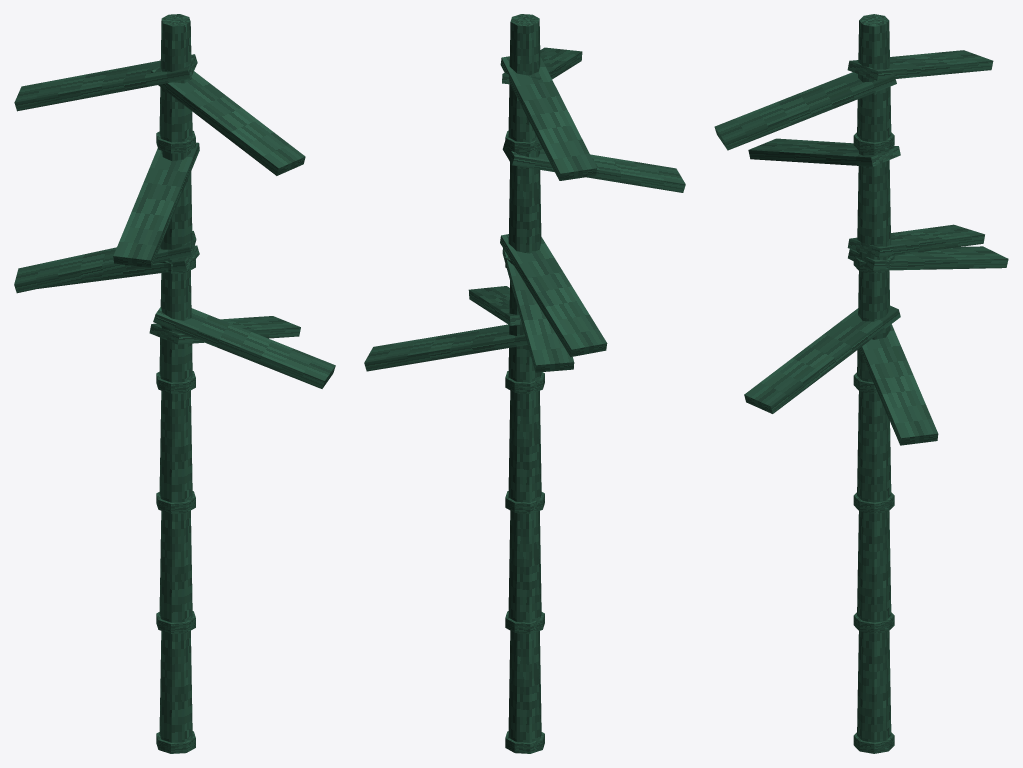
Rendered from bamboo_15.glb.
The picture shows the model from 3 angles, left to right: view 1: azimuth 30°, elevation 25°; view 2: azimuth 150°, elevation 25°; view 3: azimuth 270°, elevation 25°; orthographic projection.
Parts seen in each view (by area): view 1: Leaf.006, Leaf.005, Leaf.003, Leaf.001, Stem.002, Stem, Stem.001, Leaf.004, Stem.005, Stem.003, Leaf.002, Stem.004 (+1 smaller); view 2: Leaf.004, Leaf.001, Leaf.002, Stem.001, Stem, Stem.002, Leaf, Leaf.005, Stem.004, Stem.005, Stem.003, Leaf.003 (+1 smaller); view 3: Leaf.003, Leaf.006, Leaf.002, Stem.001, Stem, Stem.002, Stem.005, Stem.004, Leaf.005, Leaf.001, Leaf, Leaf.004 (+5 smaller).
Boxes of the visible parts, <box> form: Leaf.006: <box>151,67,305,175</box>; Leaf.005: <box>113,142,199,267</box>; Leaf.003: <box>153,307,335,388</box>; Leaf.001: <box>14,54,197,111</box>; Stem.002: <box>159,390,192,502</box>; Stem: <box>159,630,192,742</box>; Stem.001: <box>159,510,192,622</box>; Leaf.004: <box>14,231,196,293</box>; Stem.005: <box>159,14,192,142</box>; Stem.003: <box>159,270,192,382</box>; Leaf.002: <box>149,316,300,344</box>; Stem.004: <box>160,150,192,261</box>; Leaf.004: <box>500,234,607,356</box>; Leaf.001: <box>500,56,596,180</box>; Leaf.002: <box>364,324,527,371</box>; Stem.001: <box>508,510,541,622</box>; Stem: <box>508,631,541,742</box>; Stem.002: <box>508,390,541,502</box>; Leaf: <box>502,248,574,372</box>; Leaf.005: <box>502,141,685,192</box>; Stem.004: <box>508,150,541,257</box>; Stem.005: <box>508,14,540,142</box>; Stem.003: <box>508,281,541,382</box>; Leaf.003: <box>468,286,521,325</box>; Leaf.003: <box>744,305,900,413</box>; Leaf.006: <box>714,72,896,150</box>; Leaf.002: <box>859,324,938,445</box>; Stem.001: <box>857,511,891,622</box>; Stem: <box>857,631,891,742</box>; Stem.002: <box>857,391,891,502</box>; Stem.005: <box>857,14,891,142</box>; Stem.004: <box>857,151,891,260</box>; Leaf.005: <box>748,138,900,166</box>; Leaf.001: <box>847,50,993,80</box>; Leaf: <box>848,246,1008,270</box>; Leaf.004: <box>847,224,984,257</box>.
Bounding box in the file's own units: 1.39 × 3.71 × 1.36.
1 material, 1 textured.
